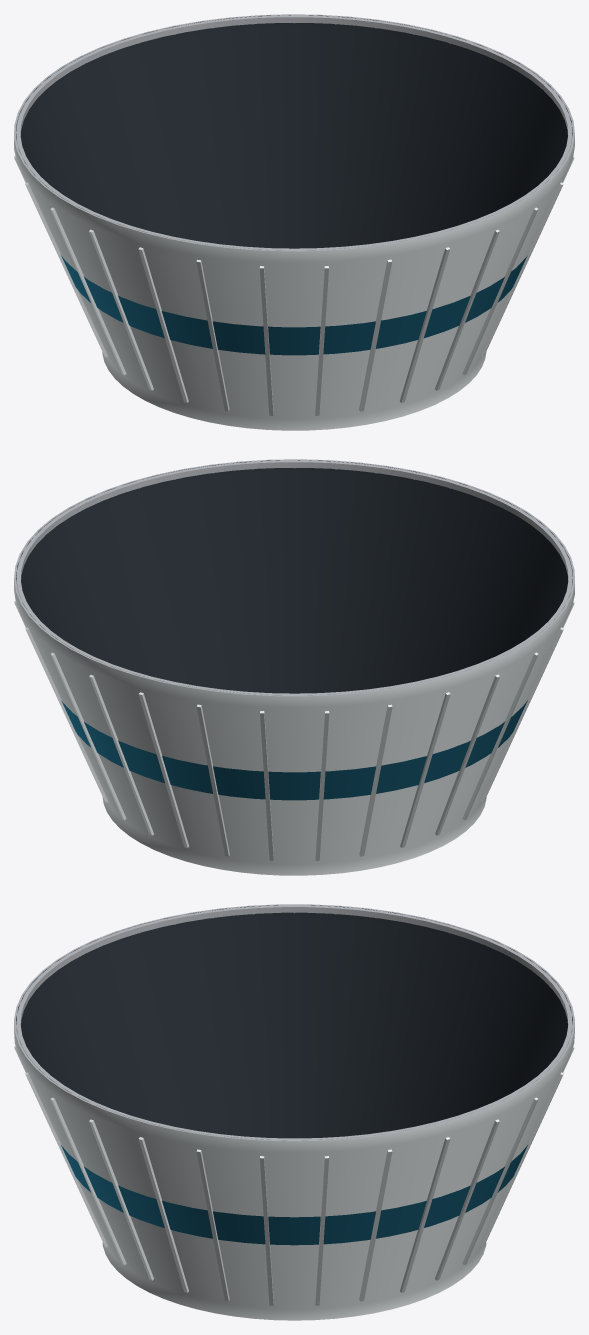
Rendered from adapter_d37_to_d54.glb.
3 views of the same model, one above another, from view 1: azimuth 30°, elevation 25°; view 2: azimuth 150°, elevation 25°; view 3: azimuth 270°, elevation 25° (orthographic).
Parts seen in each view (by area): view 1: adapter_d37_to_d54_mesh; view 2: adapter_d37_to_d54_mesh; view 3: adapter_d37_to_d54_mesh.
Part boxes in pixels (x1,y1,x2,y2): adapter_d37_to_d54_mesh: (14, 14, 574, 430); adapter_d37_to_d54_mesh: (14, 459, 574, 875); adapter_d37_to_d54_mesh: (14, 904, 574, 1320).
Size of the model in its own units: 5.4 by 2.3 by 5.4.
